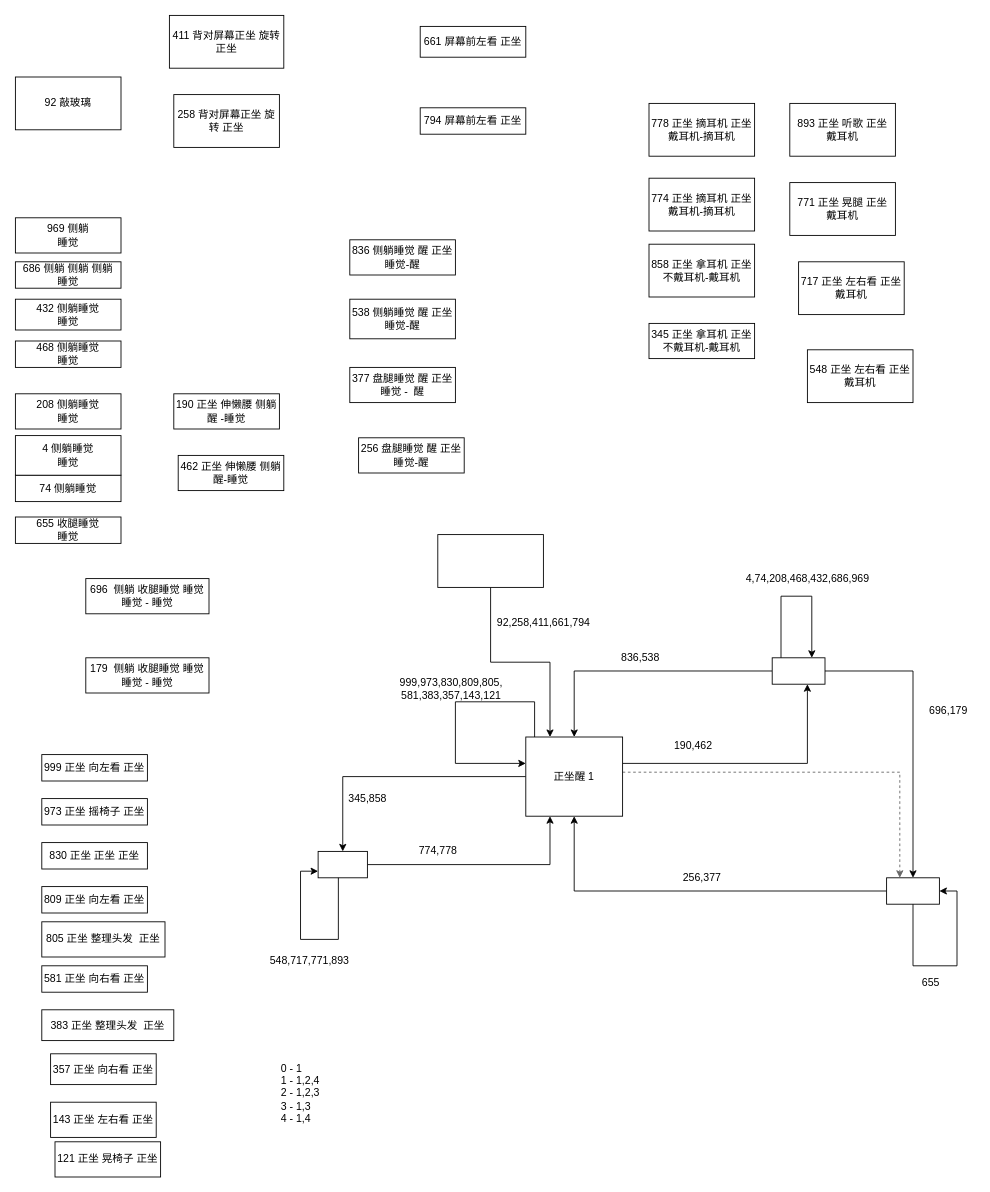
The diagram is 990 pixels wide and 1192 high, and some of its shapes have lost their labels. Each missing label, with the centre of its shape:
侧躺睡觉 2: the point at 798,670
开始 0: the point at 490,560
戴耳机 4: the point at 342,864
盘腿睡觉 3: the point at 912,890
